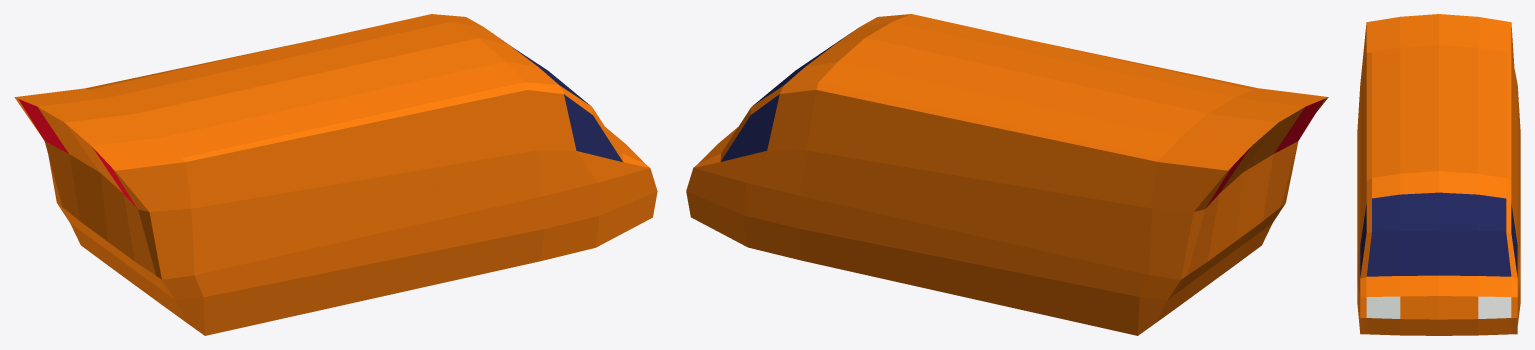
The model's file is futuretruck1.fbx.
3 renders of one model, left to right at view 1: azimuth 30°, elevation 25°; view 2: azimuth 150°, elevation 25°; view 3: azimuth 270°, elevation 25°, orthographic. The views are drawn at different scales.
Parts seen in each view (by area): view 1: Cube; view 2: Cube; view 3: Cube.
Part boxes in pixels (x1,y1,x2,y2): Cube: (14,14,657,335); Cube: (686,14,1328,335); Cube: (1357,14,1520,335).
Bounding box in the file's own units: 716 × 254 × 259.
